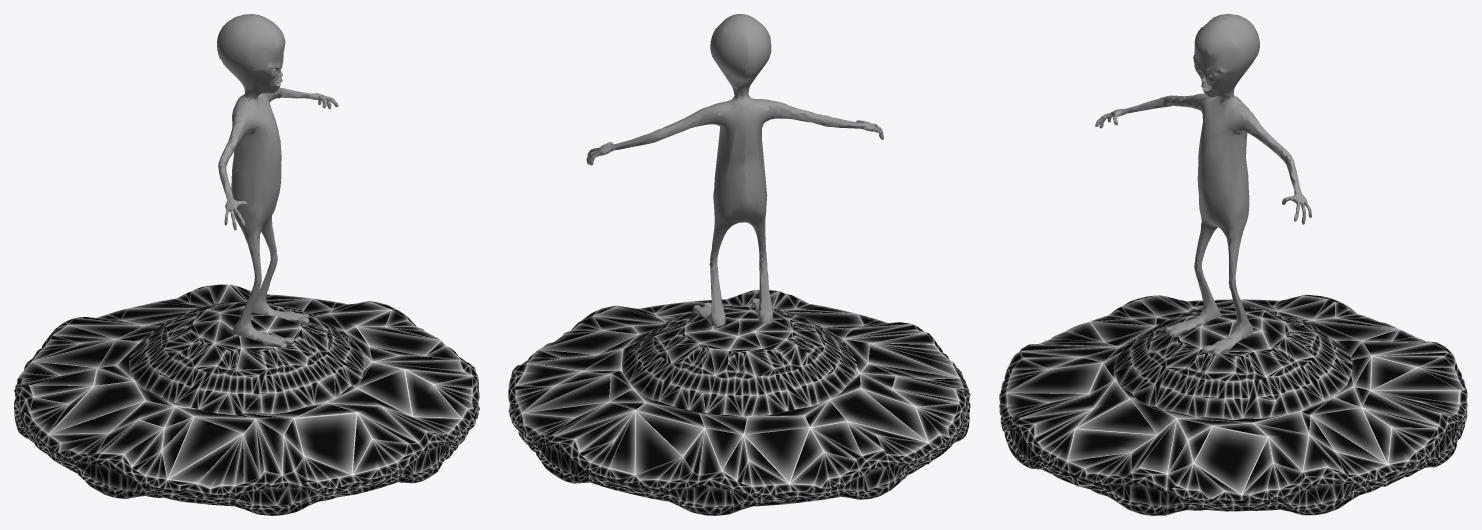
The model's file is frame_001.obj.
3 views of the same model, side by side, from view 1: azimuth 30°, elevation 25°; view 2: azimuth 150°, elevation 25°; view 3: azimuth 270°, elevation 25° (orthographic).
Parts seen in each view (by area): view 1: 13884_UFO_Saucer_v1_l2, 10469_GrayAlien_v01; view 2: 13884_UFO_Saucer_v1_l2, 10469_GrayAlien_v01; view 3: 13884_UFO_Saucer_v1_l2, 10469_GrayAlien_v01.
Boxes of the visible parts, x1,y1,x2,y2 form: 13884_UFO_Saucer_v1_l2: (14, 284, 479, 515); 10469_GrayAlien_v01: (217, 14, 338, 348); 13884_UFO_Saucer_v1_l2: (508, 290, 970, 515); 10469_GrayAlien_v01: (586, 14, 883, 326); 13884_UFO_Saucer_v1_l2: (999, 294, 1467, 515); 10469_GrayAlien_v01: (1095, 14, 1311, 355).
Bounding box in the file's own units: 12.69 × 13.98 × 12.7.
